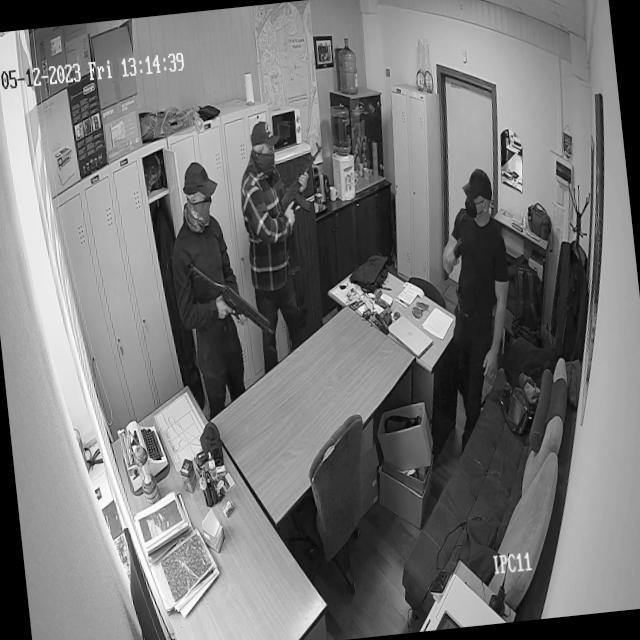gun: (187, 252, 278, 350), (274, 139, 330, 218), (448, 237, 465, 266)
person with a gun: (163, 162, 250, 396), (435, 168, 518, 408), (235, 122, 308, 356)
